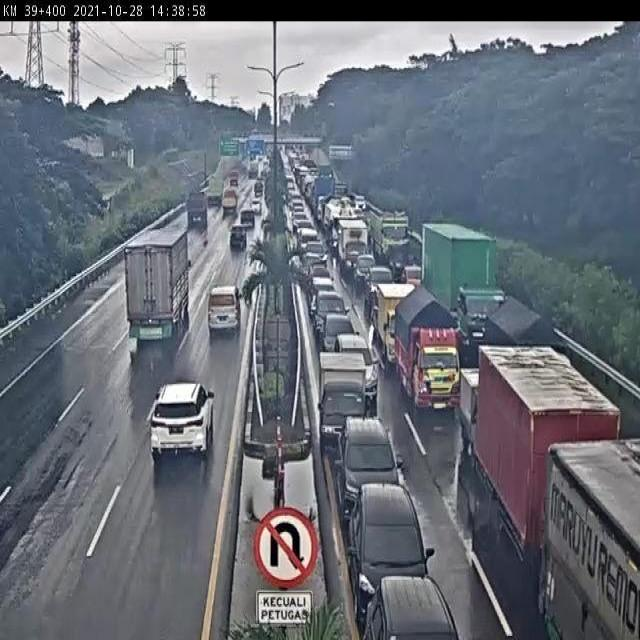big truck: (477, 345, 621, 620), (423, 221, 508, 368), (126, 225, 193, 343)
car: (347, 481, 438, 624), (337, 419, 406, 528), (363, 574, 459, 640), (150, 382, 216, 458), (322, 312, 359, 368), (311, 292, 350, 345), (207, 282, 242, 334), (366, 266, 395, 314), (308, 276, 338, 319), (304, 242, 328, 274), (355, 255, 377, 288), (230, 223, 247, 248)
small truck: (482, 295, 572, 433), (394, 281, 464, 415), (316, 353, 373, 460), (376, 286, 422, 370), (337, 219, 370, 277), (187, 190, 209, 226)
